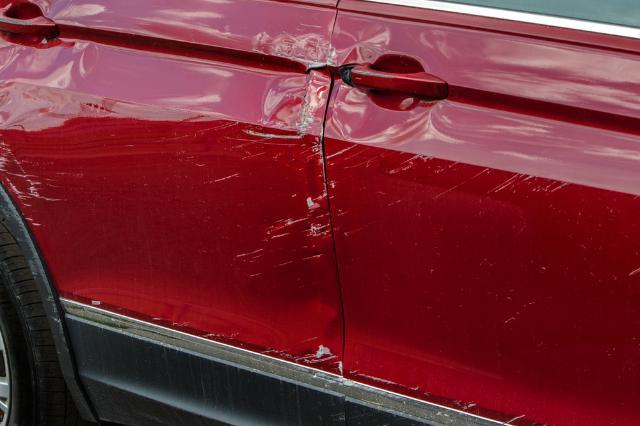dent: (326, 18, 424, 146), (256, 29, 333, 134)
scratch: (328, 141, 600, 236), (182, 128, 334, 287), (88, 299, 341, 378), (351, 368, 542, 426), (0, 133, 83, 226)
